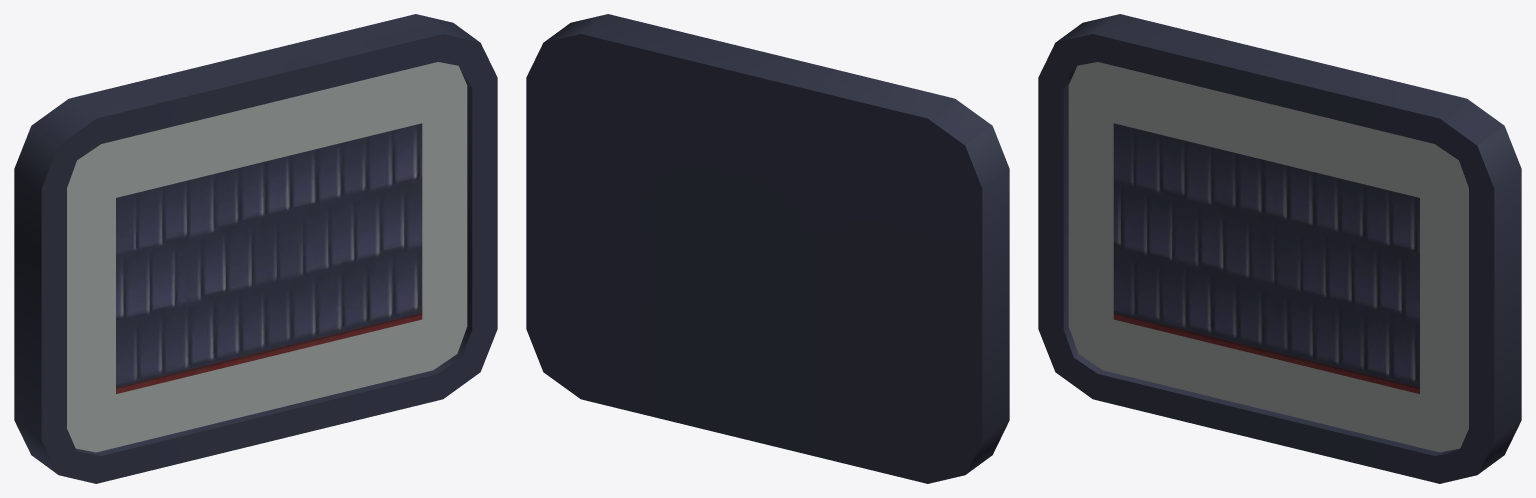
File: pm-floor-panel-02.glb
3 renders of one model, left to right at view 1: azimuth 30°, elevation 25°; view 2: azimuth 150°, elevation 25°; view 3: azimuth 330°, elevation 25°, orthographic.
Visible parts, largest first — view 1: FloorPanel02_Art; view 2: FloorPanel02_Art; view 3: FloorPanel02_Art.
Part boxes in pixels (box(x1,y1,x2,y2)): FloorPanel02_Art: box(14, 14, 497, 483); FloorPanel02_Art: box(526, 14, 1009, 483); FloorPanel02_Art: box(1038, 14, 1521, 483).
Size of the model in its own units: 1.19 by 0.9104 by 0.1233.
2 materials, 2 textured.
